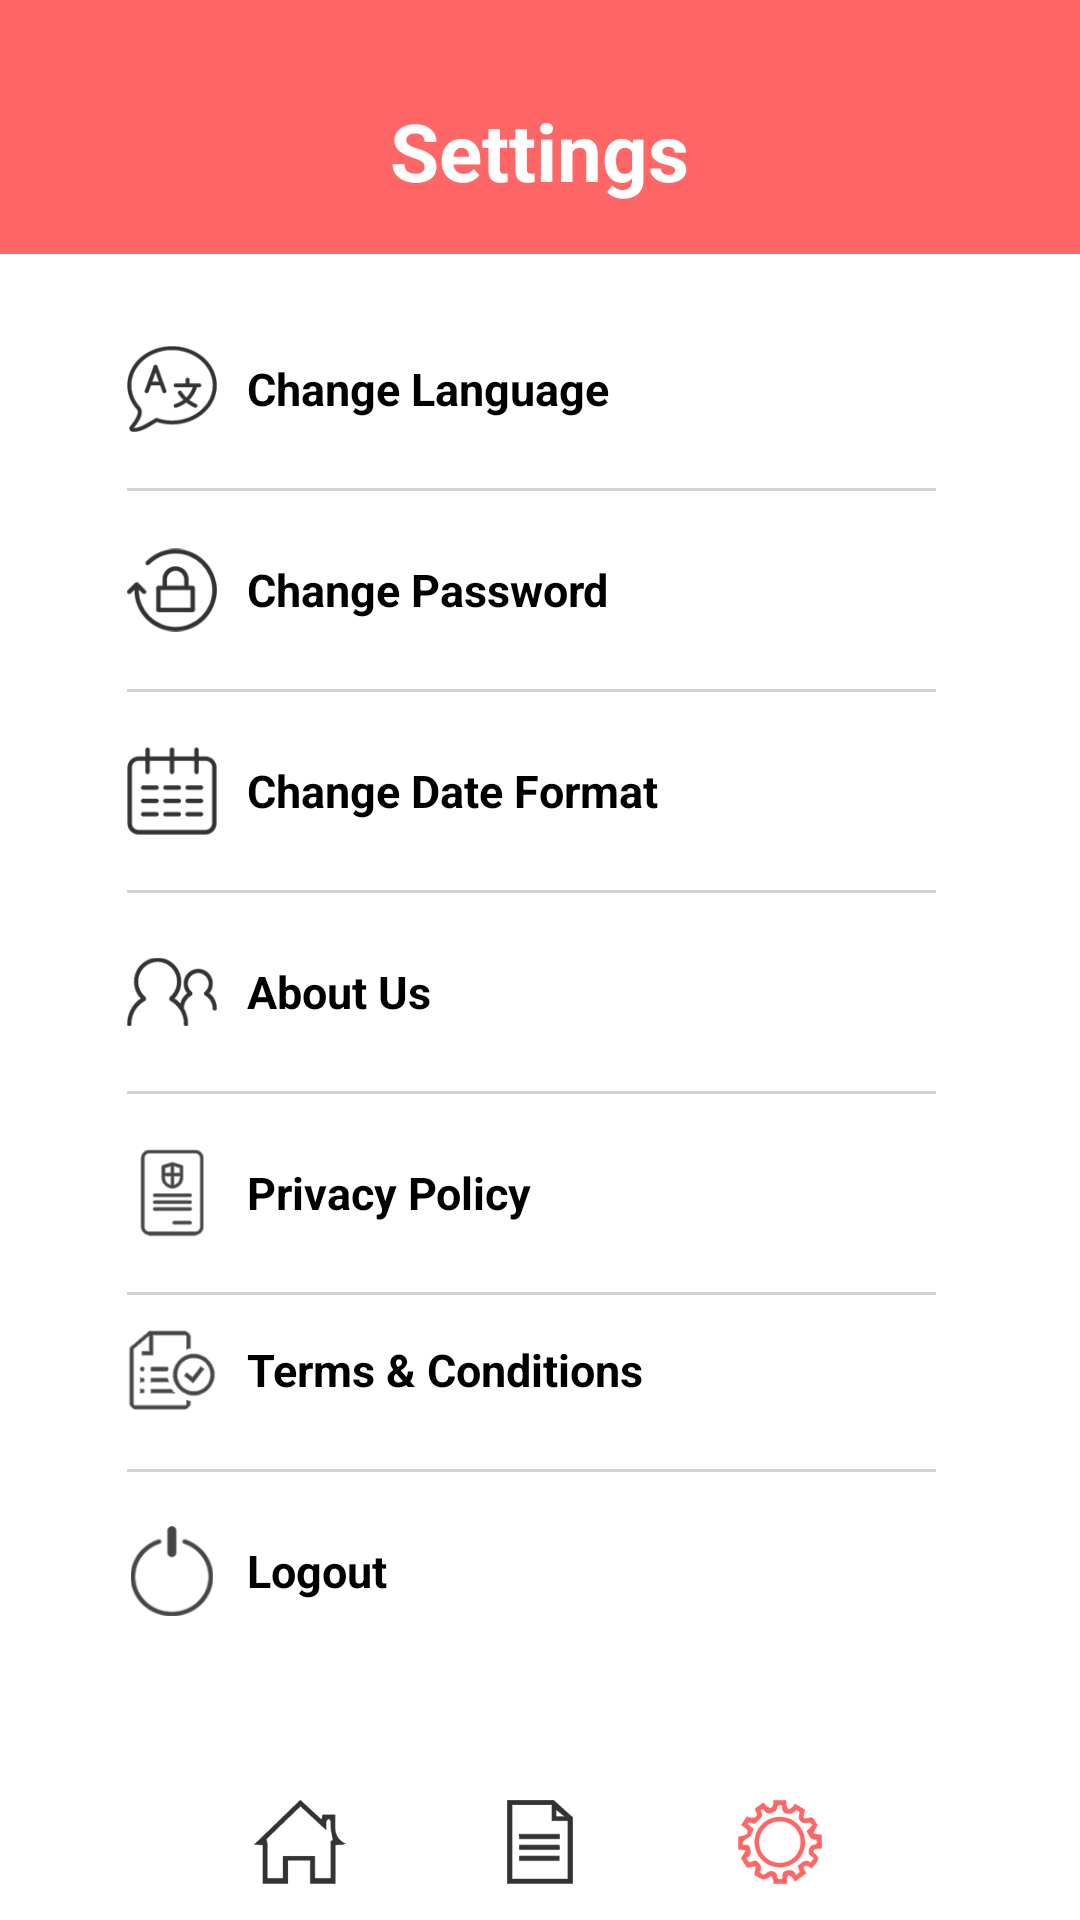

Named icons in this screenshot (1080x1920) and their centers, (x=x, y=y):
home: (x=300, y=1842)
setting: (x=780, y=1842)
